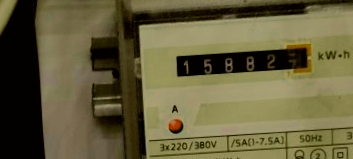1: (181, 58, 191, 74)
2: (265, 51, 276, 69)
5: (202, 56, 213, 73)
7: (287, 57, 297, 69)
8: (223, 56, 234, 73), (244, 54, 255, 71)
screen: (168, 38, 318, 86)
